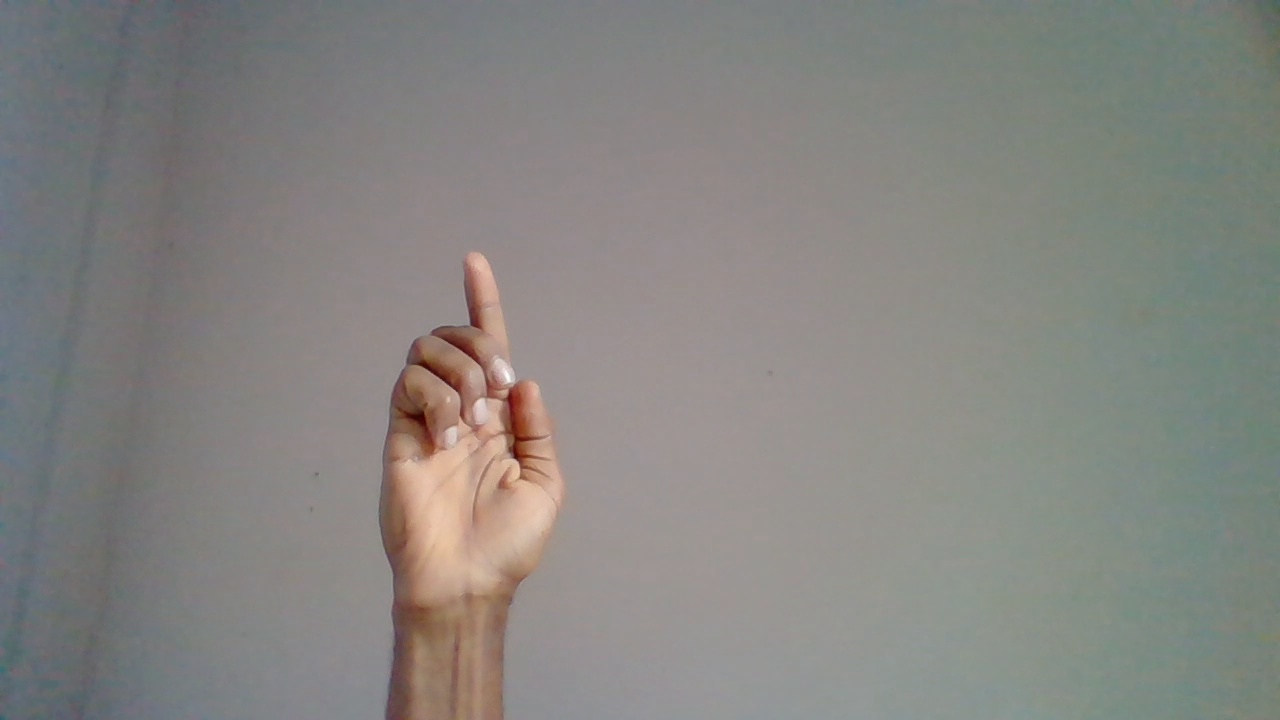qe: (379, 255, 564, 677)
